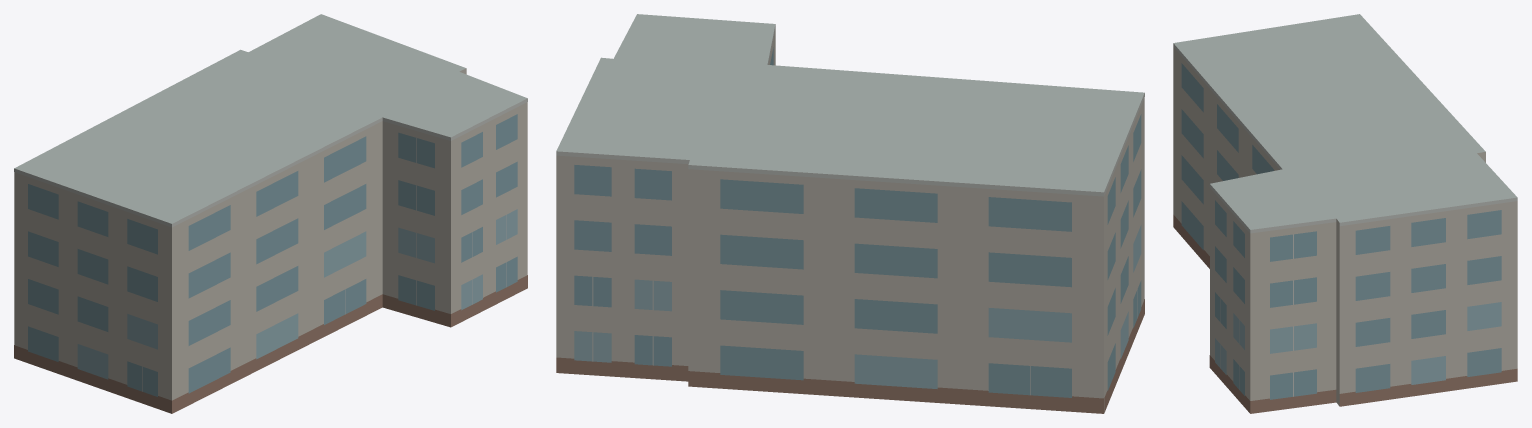
Rendered from survey-upis-32837426.glb.
The picture shows the model from 3 angles, left to right: view 1: azimuth 30°, elevation 25°; view 2: azimuth 150°, elevation 25°; view 3: azimuth 270°, elevation 25°; orthographic projection. The views are drawn at different scales.
Parts seen in each view (by area): view 1: survey-upis-32837426.tmp; view 2: survey-upis-32837426.tmp; view 3: survey-upis-32837426.tmp.
Boxes of the visible parts, box(x1,y1,x2,y2) form: survey-upis-32837426.tmp: box(14, 14, 527, 413); survey-upis-32837426.tmp: box(556, 14, 1144, 413); survey-upis-32837426.tmp: box(1173, 14, 1517, 413).
Size of the model in its own units: 32.23 by 12.8 by 21.72.
